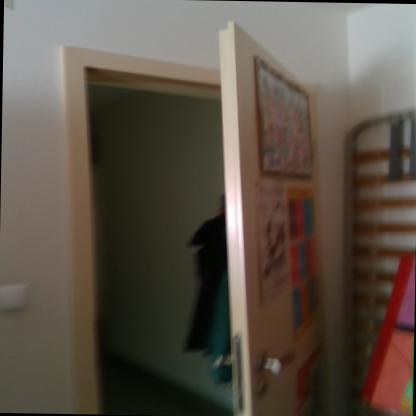semi: (45, 9, 337, 416)
